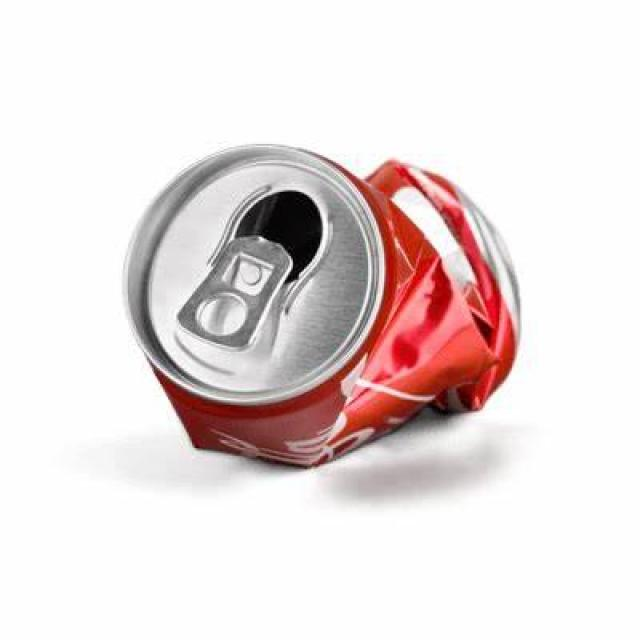can: (123, 142, 524, 470)
pop tab: (174, 237, 294, 351)
